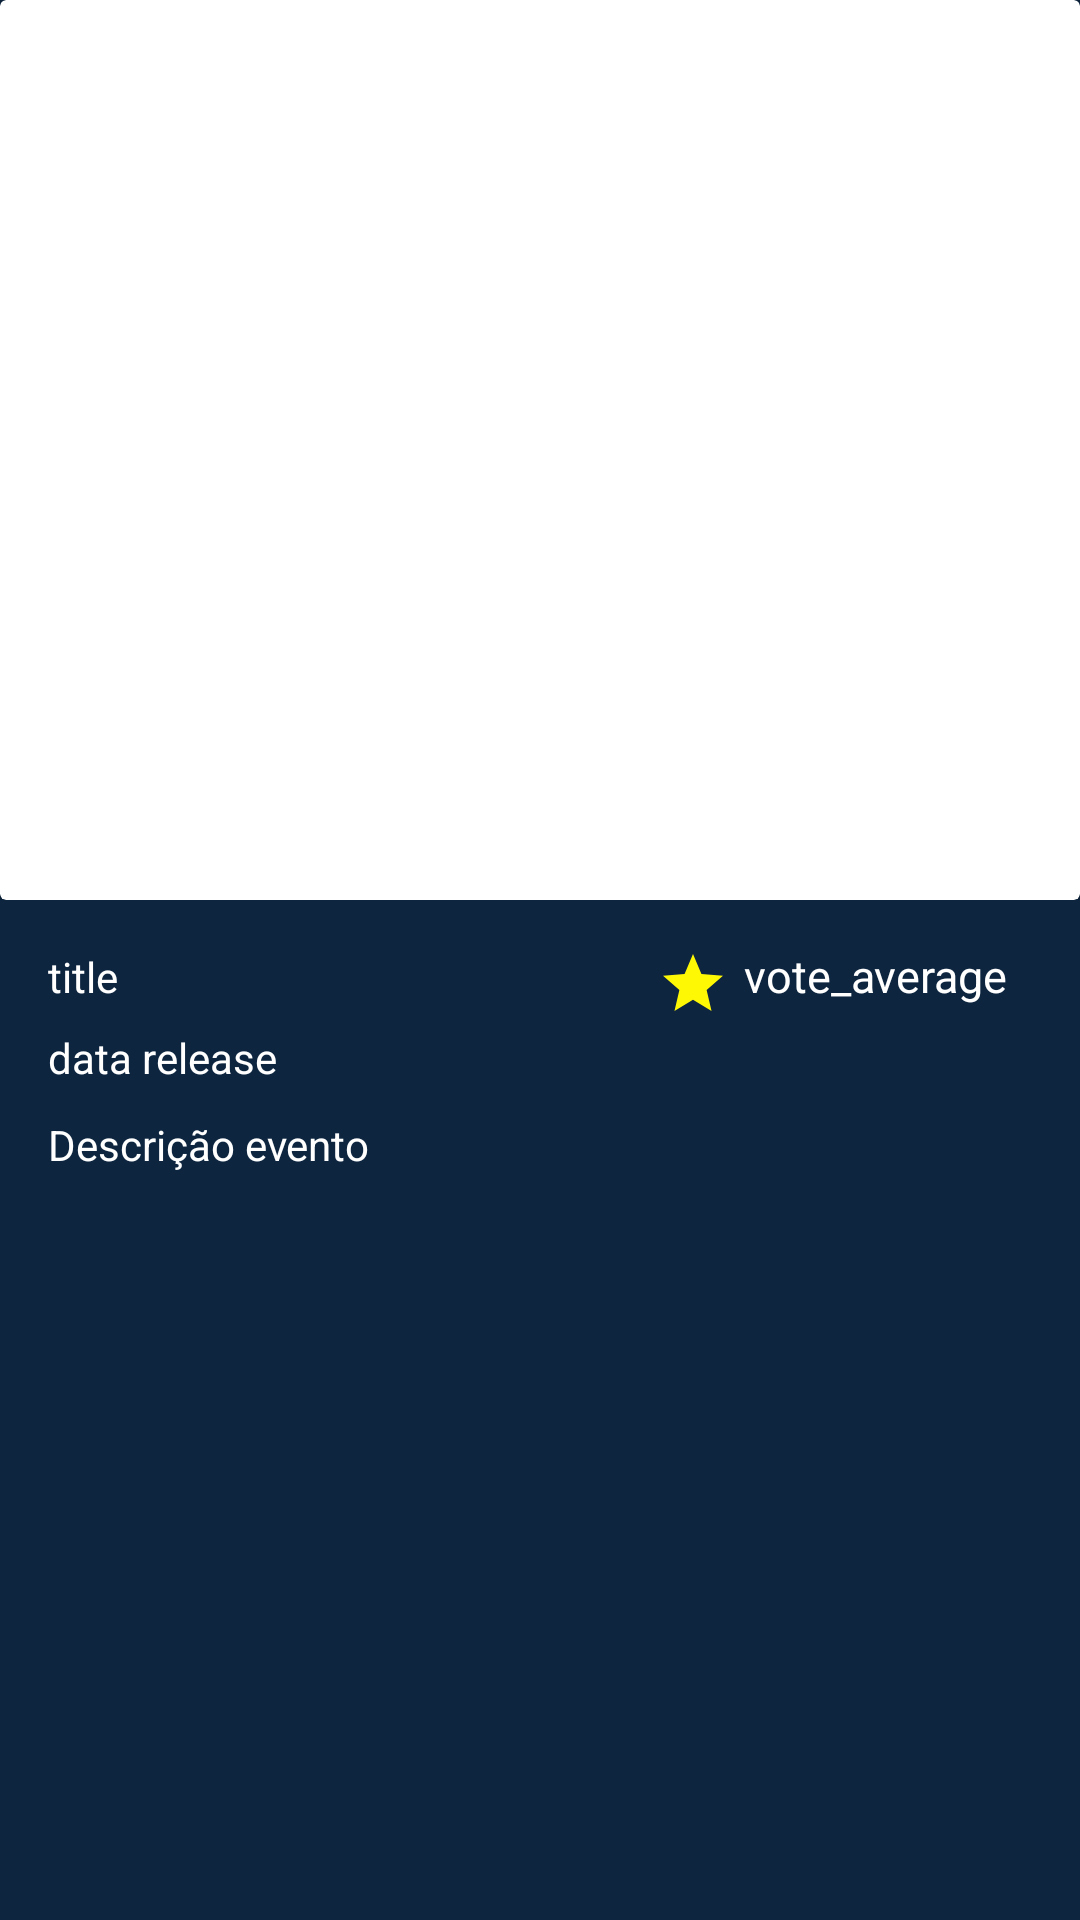

Point at icon controls on the screen. Image size 1080x1920, points as (x=x, y=y).
star: (x=693, y=982)
